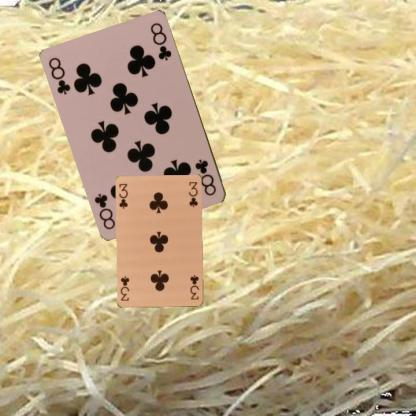3c: (116, 181, 130, 210), (188, 272, 200, 302)
8c: (192, 156, 218, 198), (46, 54, 72, 96)
